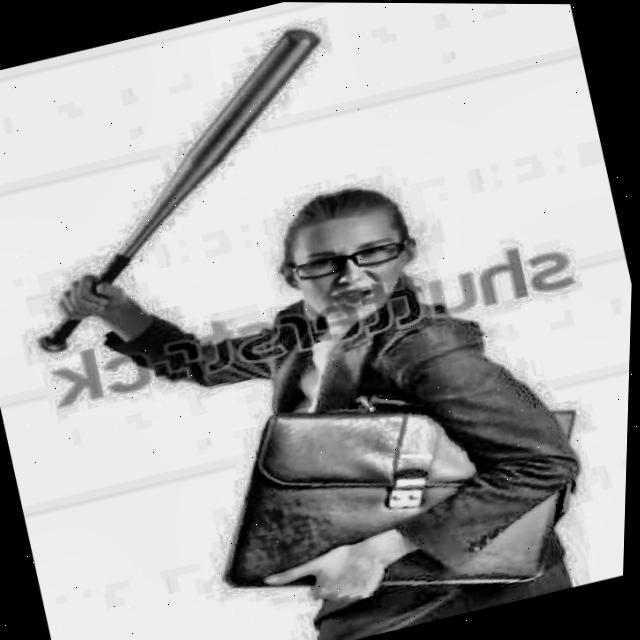tongkat pemukul: (26, 22, 333, 358)
